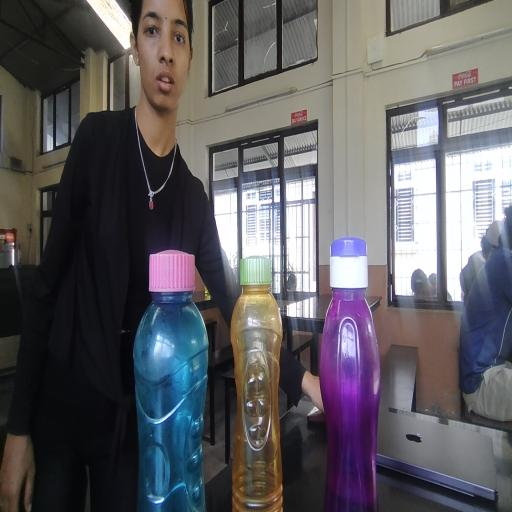Bottle: (131, 226, 222, 512), (324, 195, 396, 490), (239, 244, 285, 512)
